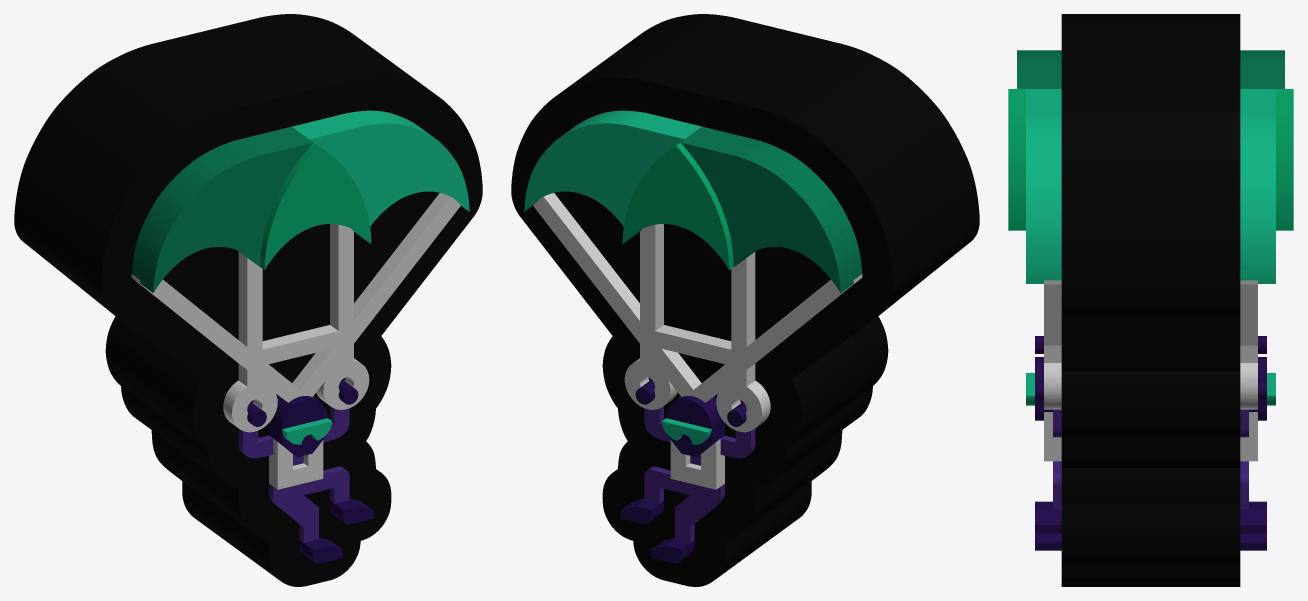
3 views of the same model, side by side, from view 1: azimuth 30°, elevation 25°; view 2: azimuth 150°, elevation 25°; view 3: azimuth 270°, elevation 25° (orthographic). The views are drawn at different scales.
Visible parts, largest first — view 1: U+1FA82_layer00_obj00, U+1FA82_layer02_obj00, U+1FA82_layer05_obj00, U+1FA82_layer04_obj00, U+1FA82_layer06_obj00, U+1FA82_layer03_obj00, U+1FA82_layer01_obj00; view 2: U+1FA82_layer00_obj00, U+1FA82_layer02_obj00, U+1FA82_layer05_obj00, U+1FA82_layer04_obj00, U+1FA82_layer06_obj00, U+1FA82_layer03_obj00, U+1FA82_layer01_obj00; view 3: U+1FA82_layer00_obj00, U+1FA82_layer04_obj00, U+1FA82_layer02_obj00, U+1FA82_layer06_obj00, U+1FA82_layer03_obj00, U+1FA82_layer05_obj00, U+1FA82_layer01_obj00.
Part boxes in pixels (<box>): U+1FA82_layer00_obj00: <box>14,14,482,586</box>; U+1FA82_layer02_obj00: <box>131,193,460,489</box>; U+1FA82_layer05_obj00: <box>132,126,313,293</box>; U+1FA82_layer04_obj00: <box>282,110,469,444</box>; U+1FA82_layer06_obj00: <box>260,140,371,269</box>; U+1FA82_layer03_obj00: <box>247,379,373,563</box>; U+1FA82_layer01_obj00: <box>238,406,349,542</box>; U+1FA82_layer00_obj00: <box>511,14,979,586</box>; U+1FA82_layer02_obj00: <box>533,193,862,489</box>; U+1FA82_layer05_obj00: <box>680,126,861,293</box>; U+1FA82_layer04_obj00: <box>524,110,711,444</box>; U+1FA82_layer06_obj00: <box>622,140,733,269</box>; U+1FA82_layer03_obj00: <box>620,379,746,563</box>; U+1FA82_layer01_obj00: <box>644,406,755,542</box>; U+1FA82_layer00_obj00: <box>1061,14,1240,586</box>; U+1FA82_layer04_obj00: <box>1026,89,1275,405</box>; U+1FA82_layer02_obj00: <box>1044,280,1257,461</box>; U+1FA82_layer06_obj00: <box>1008,89,1293,230</box>; U+1FA82_layer03_obj00: <box>1035,336,1266,550</box>; U+1FA82_layer05_obj00: <box>1017,50,1284,88</box>; U+1FA82_layer01_obj00: <box>1053,409,1248,509</box>.
Size of the model in its own units: 0.5072 by 0.6287 by 0.32.
